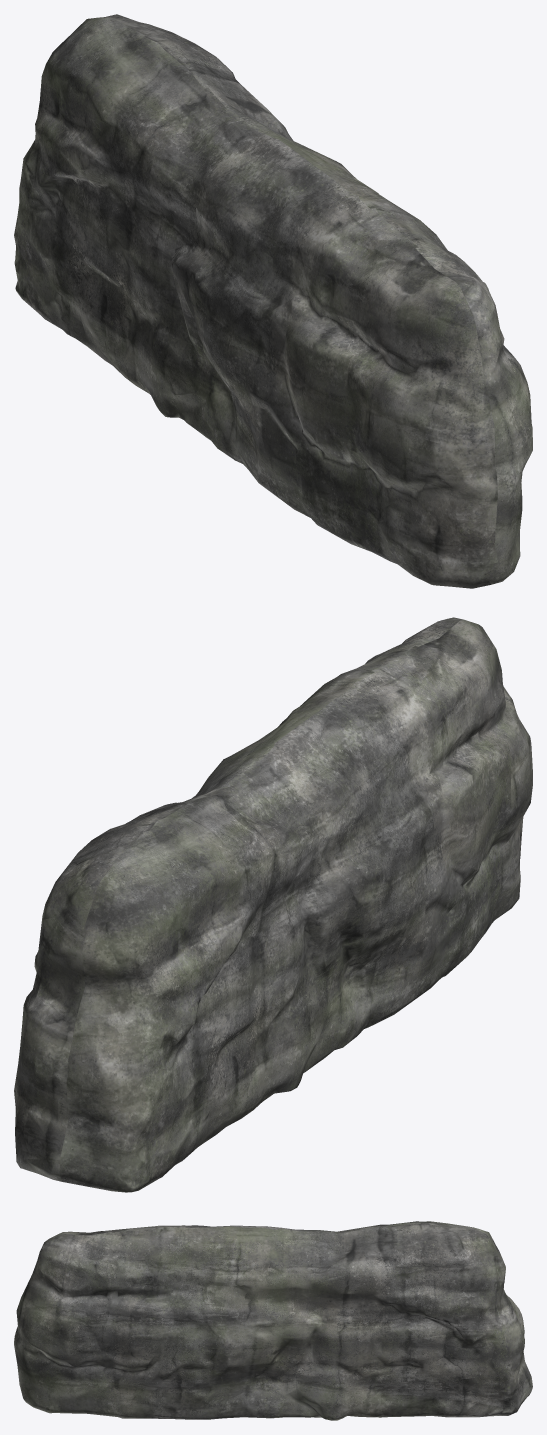
Rendered from SM_RockCliff_01.fbx.
The picture shows the model from 3 angles, top to bottom: view 1: azimuth 30°, elevation 25°; view 2: azimuth 150°, elevation 25°; view 3: azimuth 270°, elevation 25°; orthographic projection. The views are drawn at different scales.
Parts seen in each view (by area): view 1: SM_RockCliff_01_LOD0; view 2: SM_RockCliff_01_LOD0; view 3: SM_RockCliff_01_LOD0.
Part boxes in pixels (<box>): SM_RockCliff_01_LOD0: <box>14,14,532,588</box>; SM_RockCliff_01_LOD0: <box>14,617,532,1192</box>; SM_RockCliff_01_LOD0: <box>14,1221,532,1420</box>.
Bounding box in the file's own units: 344 × 1401 × 535.
